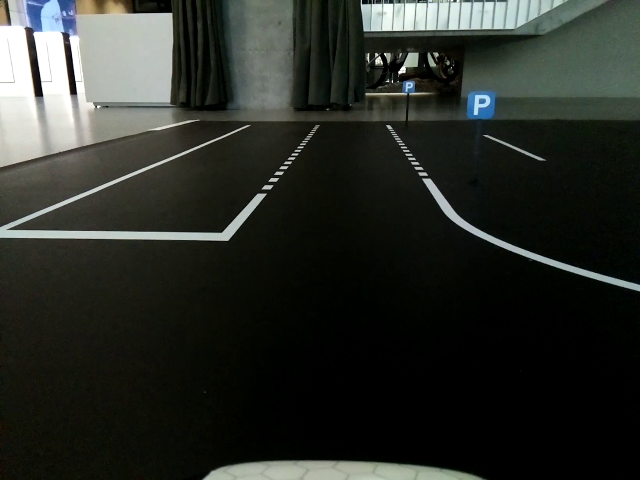park: (467, 90, 494, 120), (403, 80, 416, 93)
